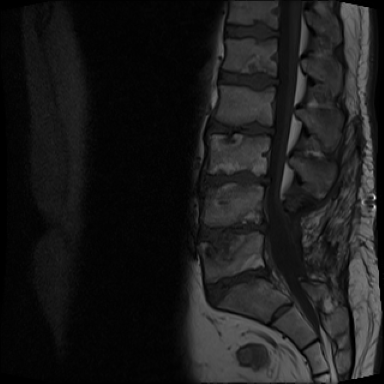Degenerative Disc Disease (DDD): (202, 261, 281, 313), (191, 213, 275, 247), (214, 66, 284, 90)
Lumbar Disc Bulge (LDB): (192, 165, 274, 192), (202, 115, 283, 140)
Spinal Stenosis (SS): (254, 165, 280, 193), (248, 212, 272, 241), (261, 117, 284, 140), (258, 260, 277, 286)
Spondylolisthesis: (191, 246, 289, 322)
Thoracic Disc Bulge (TDB): (220, 16, 282, 46)
